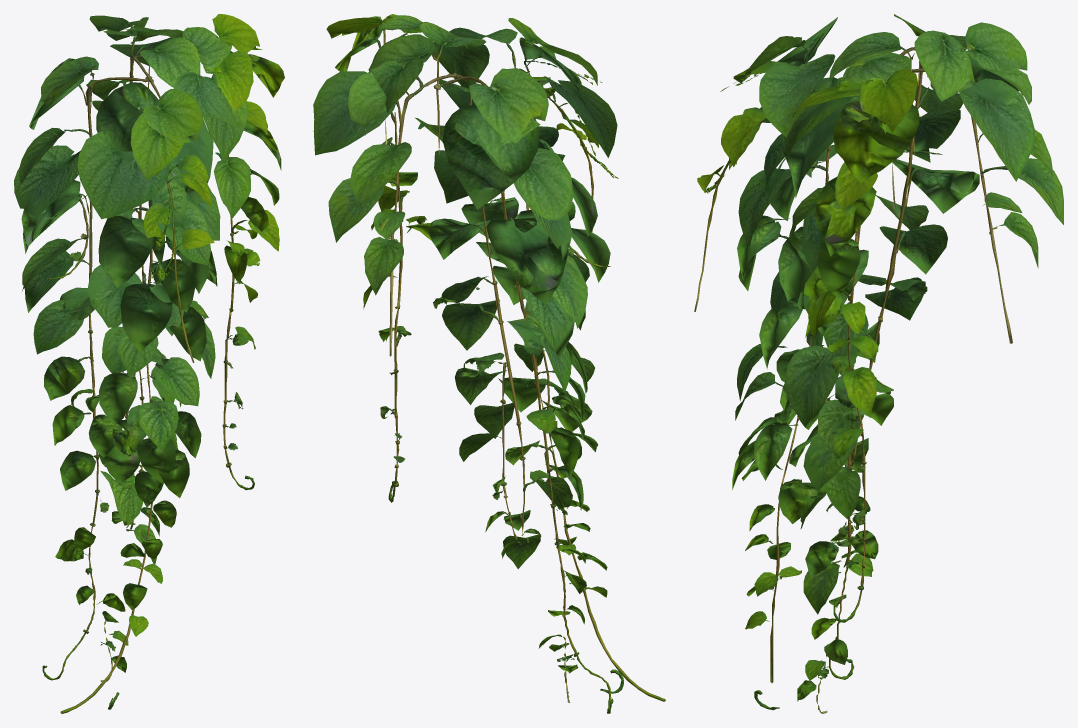
The picture shows the model from 3 angles, left to right: view 1: azimuth 30°, elevation 25°; view 2: azimuth 150°, elevation 25°; view 3: azimuth 270°, elevation 25°; orthographic projection. The views are drawn at different scales.
Visible parts, largest first — view 1: Model_0; view 2: Model_0; view 3: Model_0.
Boxes of the visible parts, <box> form: Model_0: <box>14,14,284,713</box>; Model_0: <box>313,14,665,713</box>; Model_0: <box>694,14,1063,713</box>.
Bounding box in the file's own units: 0.4306 × 1 × 0.456.
1 material, 1 textured.
